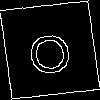O: (25, 25, 74, 75)
